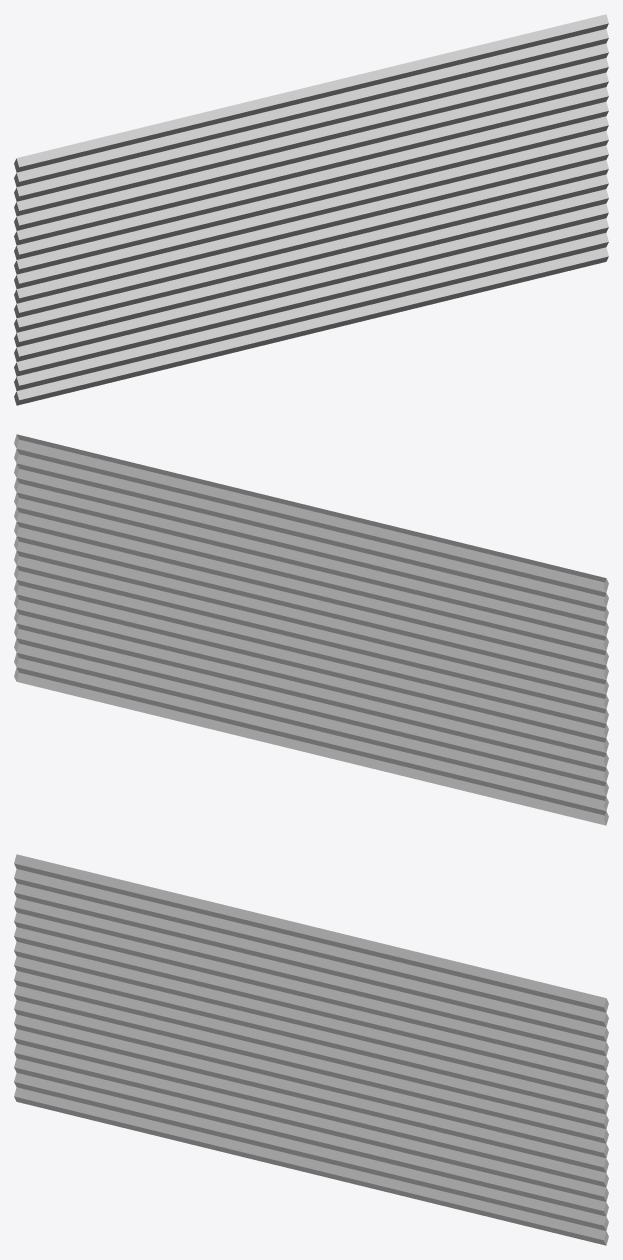
File: PredioTortoPortao.fbx
The picture shows the model from 3 angles, top to bottom: view 1: azimuth 30°, elevation 25°; view 2: azimuth 150°, elevation 25°; view 3: azimuth 330°, elevation 25°; orthographic projection.
Parts seen in each view (by area): view 1: PortaoPredio3Andares; view 2: PortaoPredio3Andares; view 3: PortaoPredio3Andares.
Boxes of the visible parts, x1,y1,x2,y2 form: PortaoPredio3Andares: [14, 14, 608, 405]; PortaoPredio3Andares: [14, 434, 608, 825]; PortaoPredio3Andares: [14, 854, 608, 1245].
Size of the model in its own units: 630 by 253 by 9.6.
